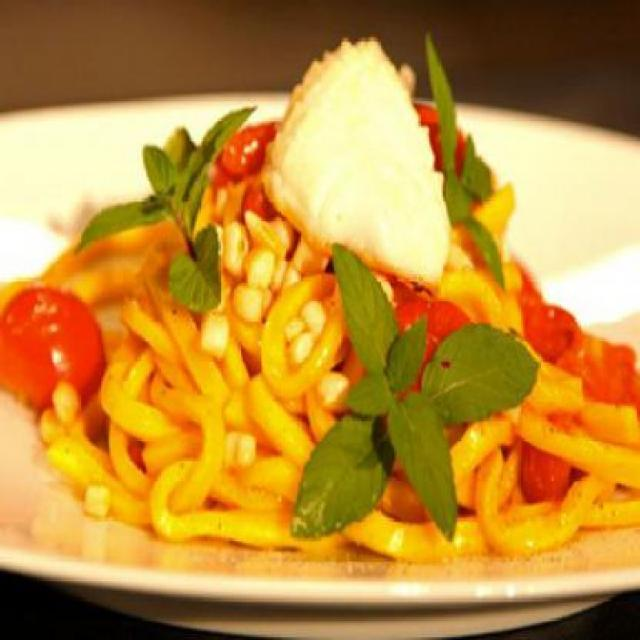Pasta al ragu: (37, 61, 620, 570)
